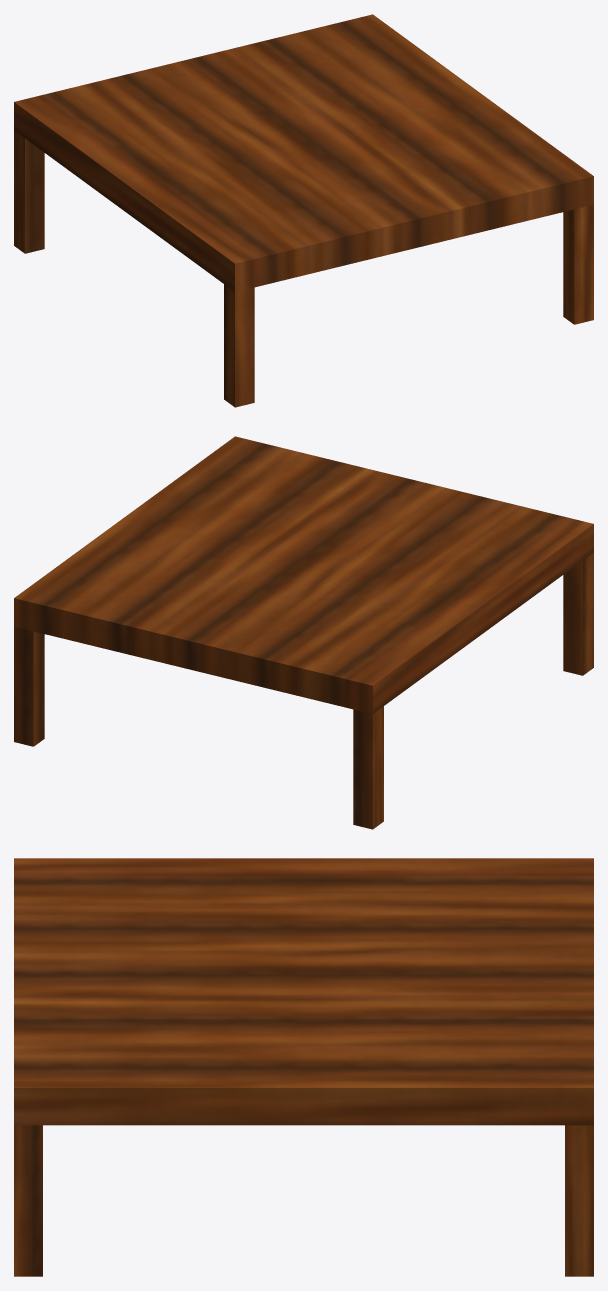
The model's file is co_TableWoodSquareBig_01.fbx.
3 renders of one model, top to bottom at view 1: azimuth 30°, elevation 25°; view 2: azimuth 150°, elevation 25°; view 3: azimuth 270°, elevation 25°, orthographic. The views are drawn at different scales.
Parts seen in each view (by area): view 1: TableWoodSquareBig_01; view 2: TableWoodSquareBig_01; view 3: TableWoodSquareBig_01.
Part boxes in pixels (<box>): TableWoodSquareBig_01: <box>14,14,593,407</box>; TableWoodSquareBig_01: <box>14,436,593,829</box>; TableWoodSquareBig_01: <box>14,858,593,1276</box>.
Bounding box in the file's own units: 540 × 207 × 576.
